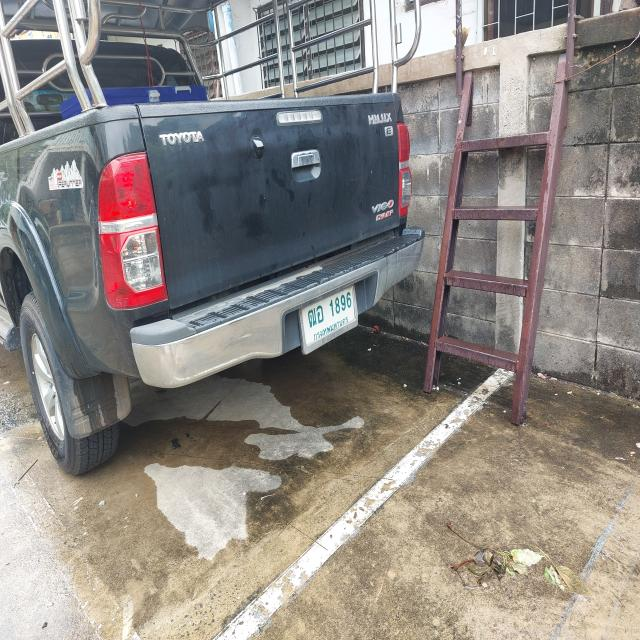license_plate: (297, 280, 361, 356)
